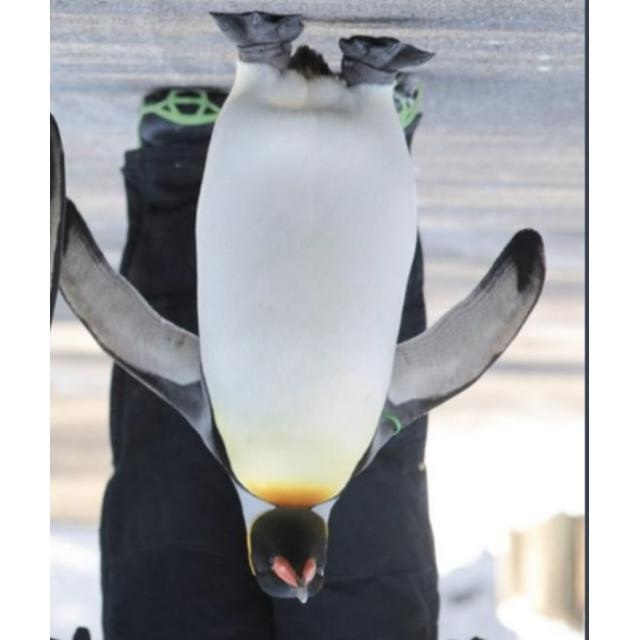penguin: (51, 7, 550, 602)
